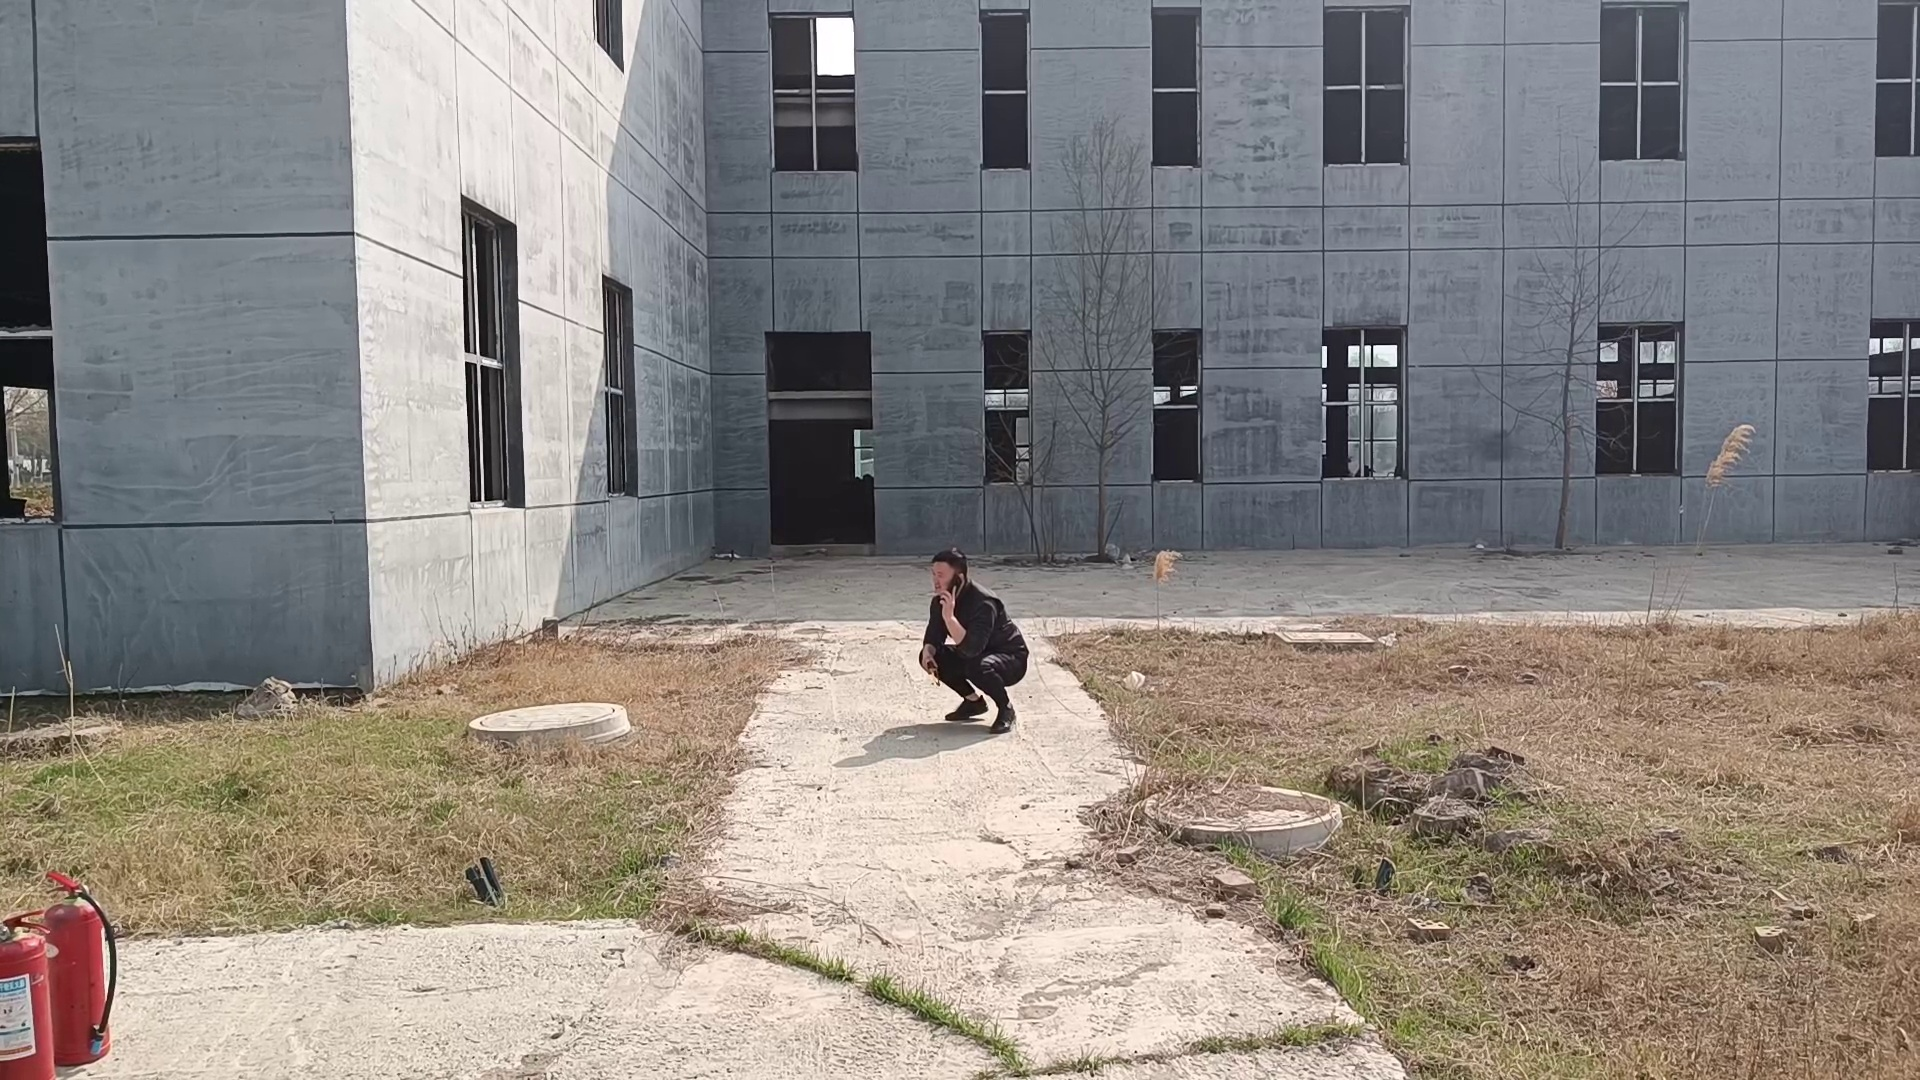phone: (913, 553, 978, 603)
